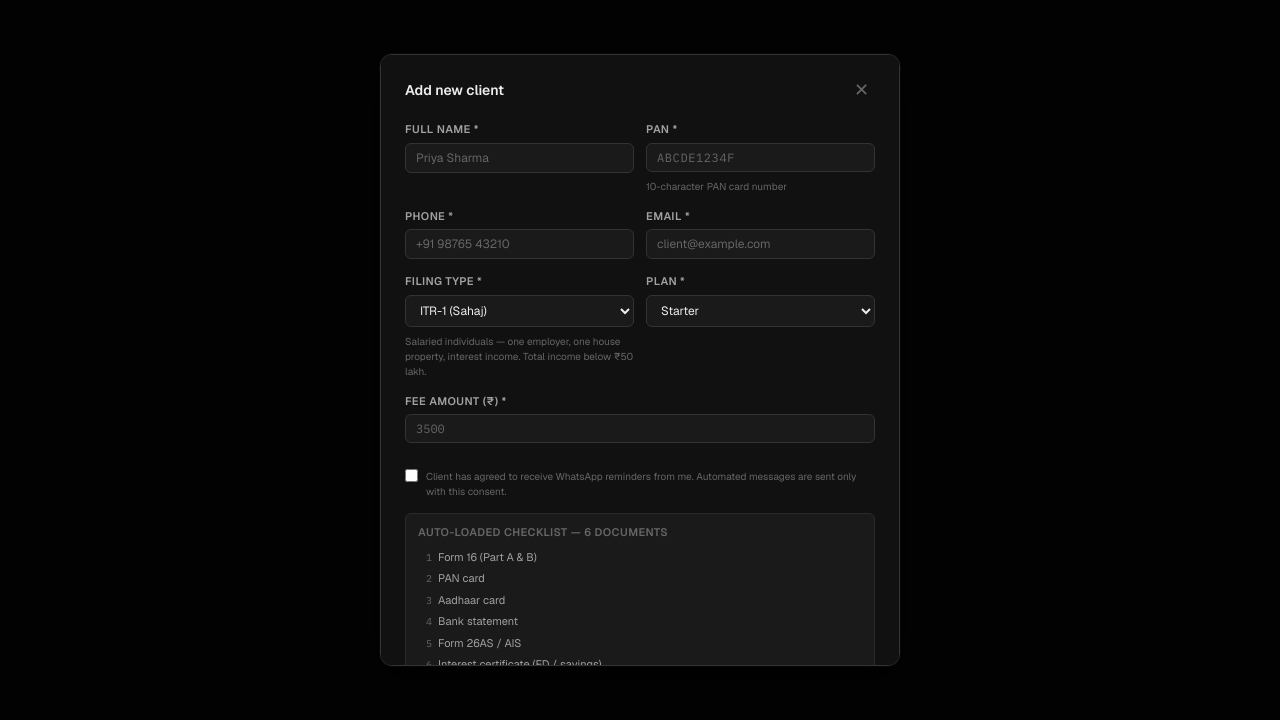
ClientFormModal — validation › negative fee amount rejected
This screenshot has width=1280, height=720.
In the number field with placeholder "3500": (640,428) x1=405 y1=414 x2=875 y2=443, type "-100"
(page scrolled)
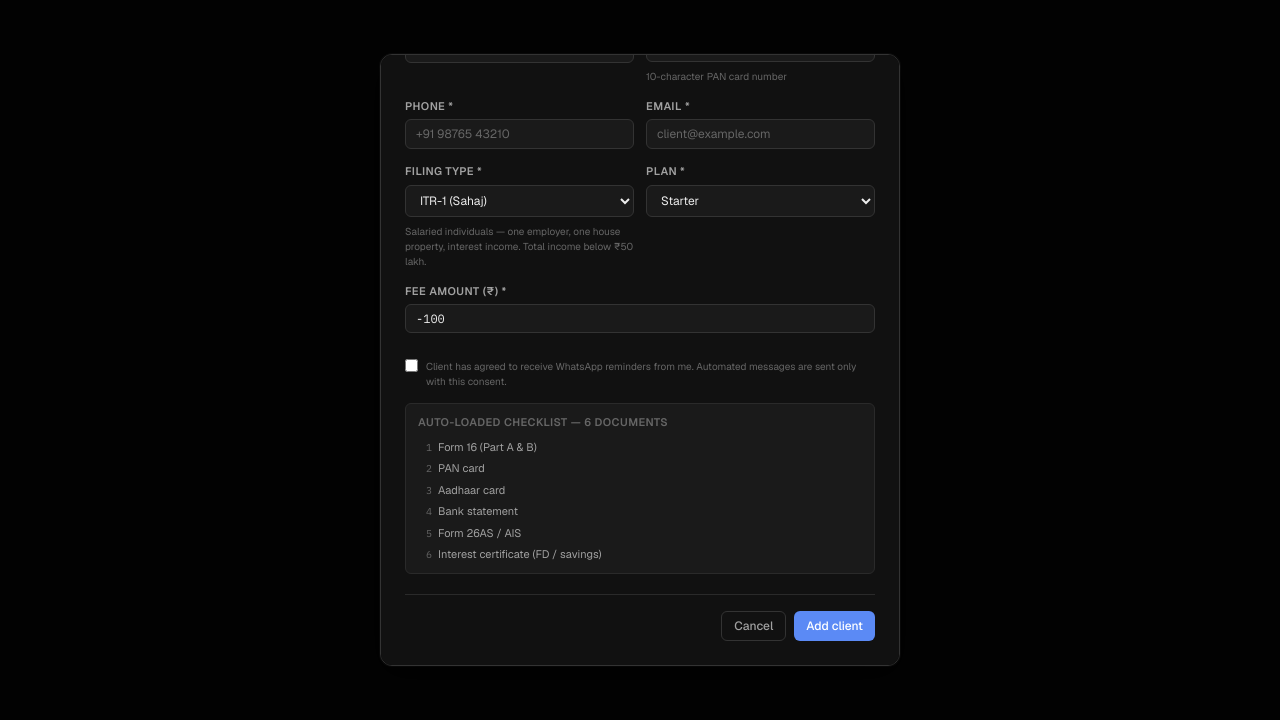
Click the button "Add client": (835,626) x1=794 y1=610 x2=875 y2=640
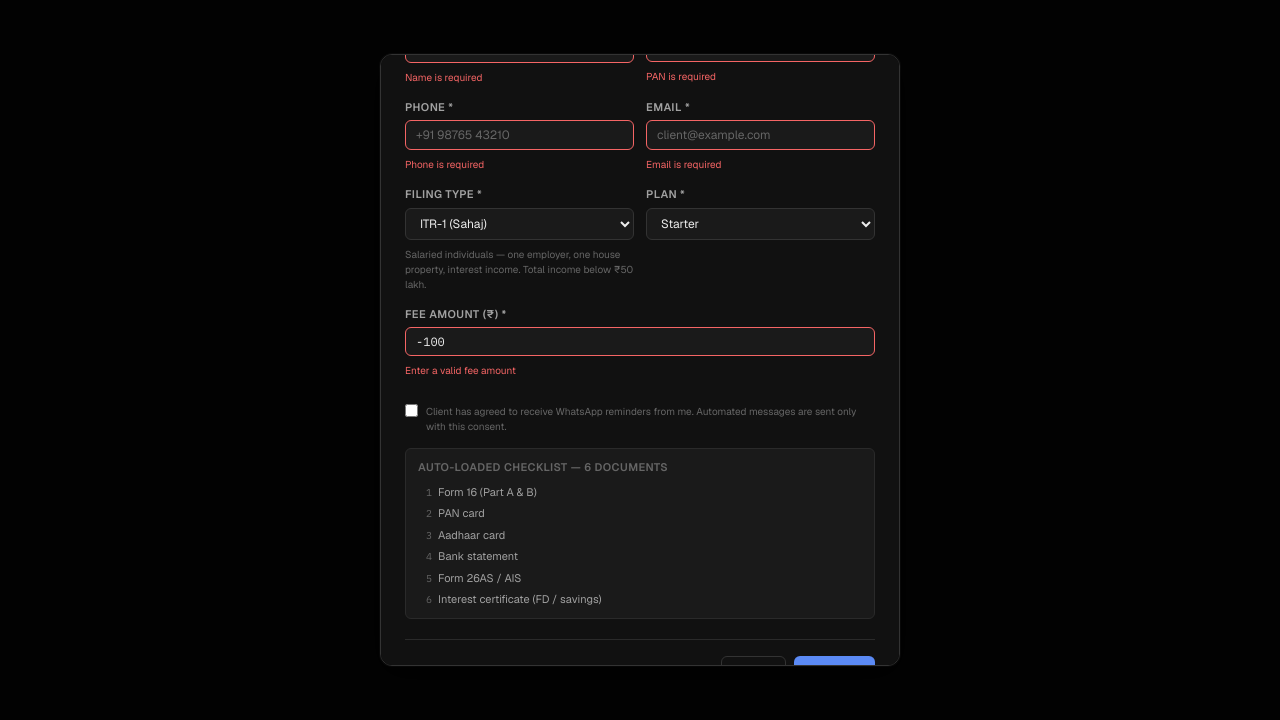
Result: the text "Enter a valid fee amount" is shown at x1=405 y1=364 x2=516 y2=377
